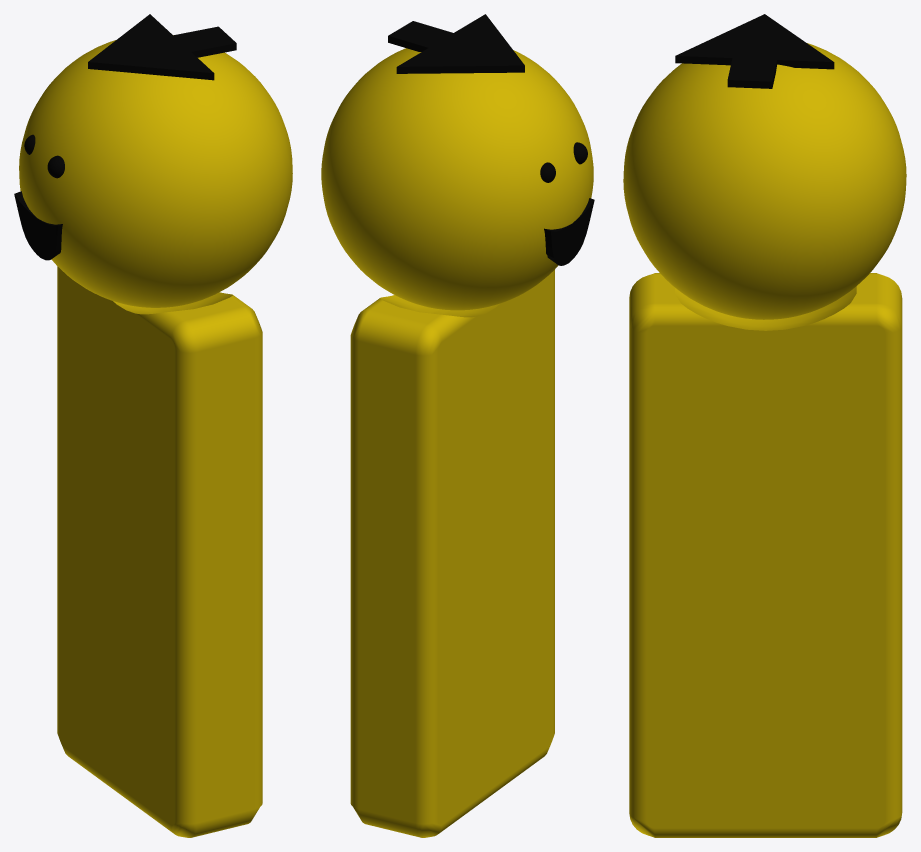
The model's file is yellow_happy.obj.
The picture shows the model from 3 angles, left to right: view 1: azimuth 30°, elevation 25°; view 2: azimuth 150°, elevation 25°; view 3: azimuth 270°, elevation 25°; orthographic projection. The views are drawn at different scales.
Parts seen in each view (by area): view 1: 1_Curve.002_Curve.004, 5.002_Curve.002_Curve.003_5.002_Curve.002_Curve.004; view 2: 1_Curve.002_Curve.004, 5.002_Curve.002_Curve.003_5.002_Curve.002_Curve.004; view 3: 1_Curve.002_Curve.004, 5.002_Curve.002_Curve.003_5.002_Curve.002_Curve.004.
Boxes of the visible parts, bbox=[...] form: 1_Curve.002_Curve.004: bbox=[19, 35, 292, 837]; 5.002_Curve.002_Curve.003_5.002_Curve.002_Curve.004: bbox=[14, 14, 236, 260]; 1_Curve.002_Curve.004: bbox=[321, 48, 593, 837]; 5.002_Curve.002_Curve.003_5.002_Curve.002_Curve.004: bbox=[388, 14, 594, 265]; 1_Curve.002_Curve.004: bbox=[623, 43, 906, 837]; 5.002_Curve.002_Curve.003_5.002_Curve.002_Curve.004: bbox=[675, 14, 834, 88].
Bounding box in the file's own units: 0.1662 × 0.4993 × 0.1661.
